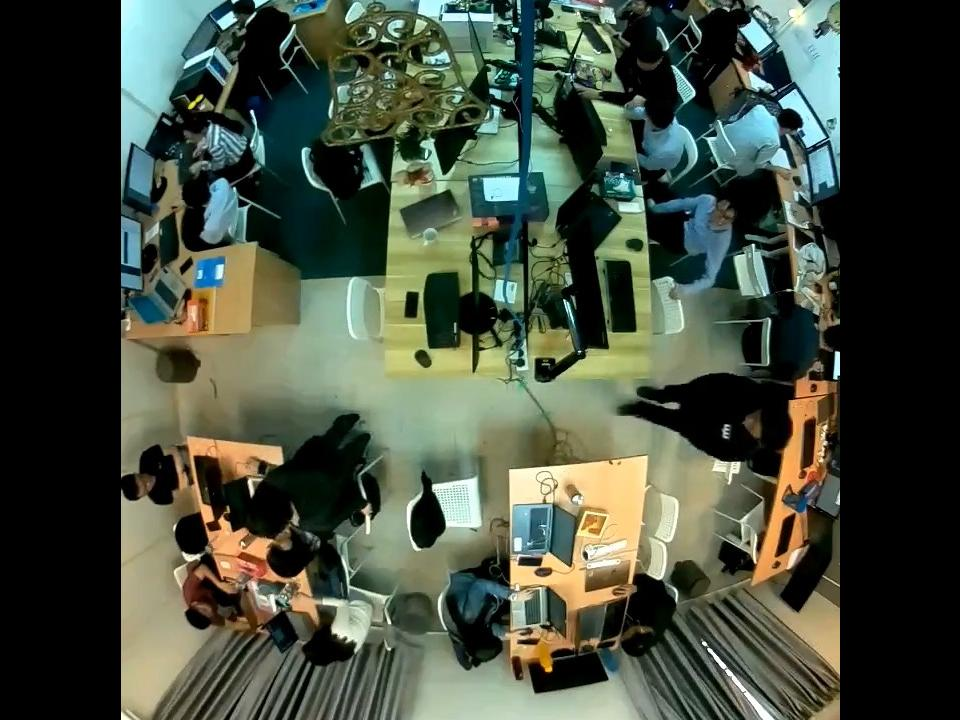name-tag: (720, 422, 734, 442)
